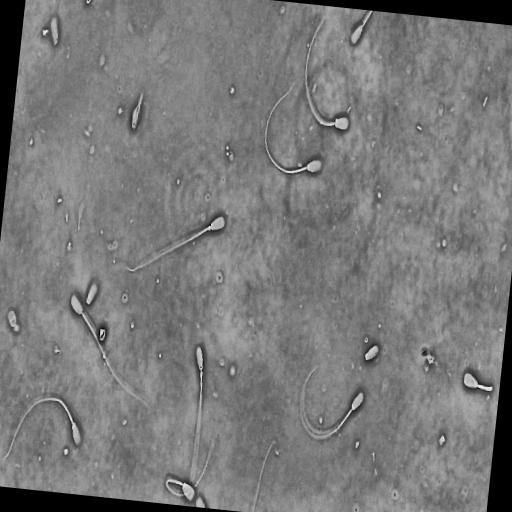coiled-tail: (132, 95, 142, 128), (477, 384, 492, 392)
dirt-particles: (98, 326, 107, 344), (41, 27, 49, 38), (229, 84, 236, 96), (63, 446, 69, 458), (85, 0, 92, 6)
folded-tail: (166, 456, 210, 497)
loose-head: (49, 12, 60, 47), (363, 343, 381, 363), (86, 280, 99, 307)
normal: (68, 291, 148, 409), (120, 212, 227, 276), (263, 78, 324, 178), (303, 10, 351, 132), (2, 396, 83, 463), (299, 363, 366, 443), (164, 447, 214, 503), (189, 341, 204, 486), (462, 370, 494, 395), (129, 89, 144, 133)
proximal-droplet: (200, 371, 203, 377), (208, 225, 211, 231)
